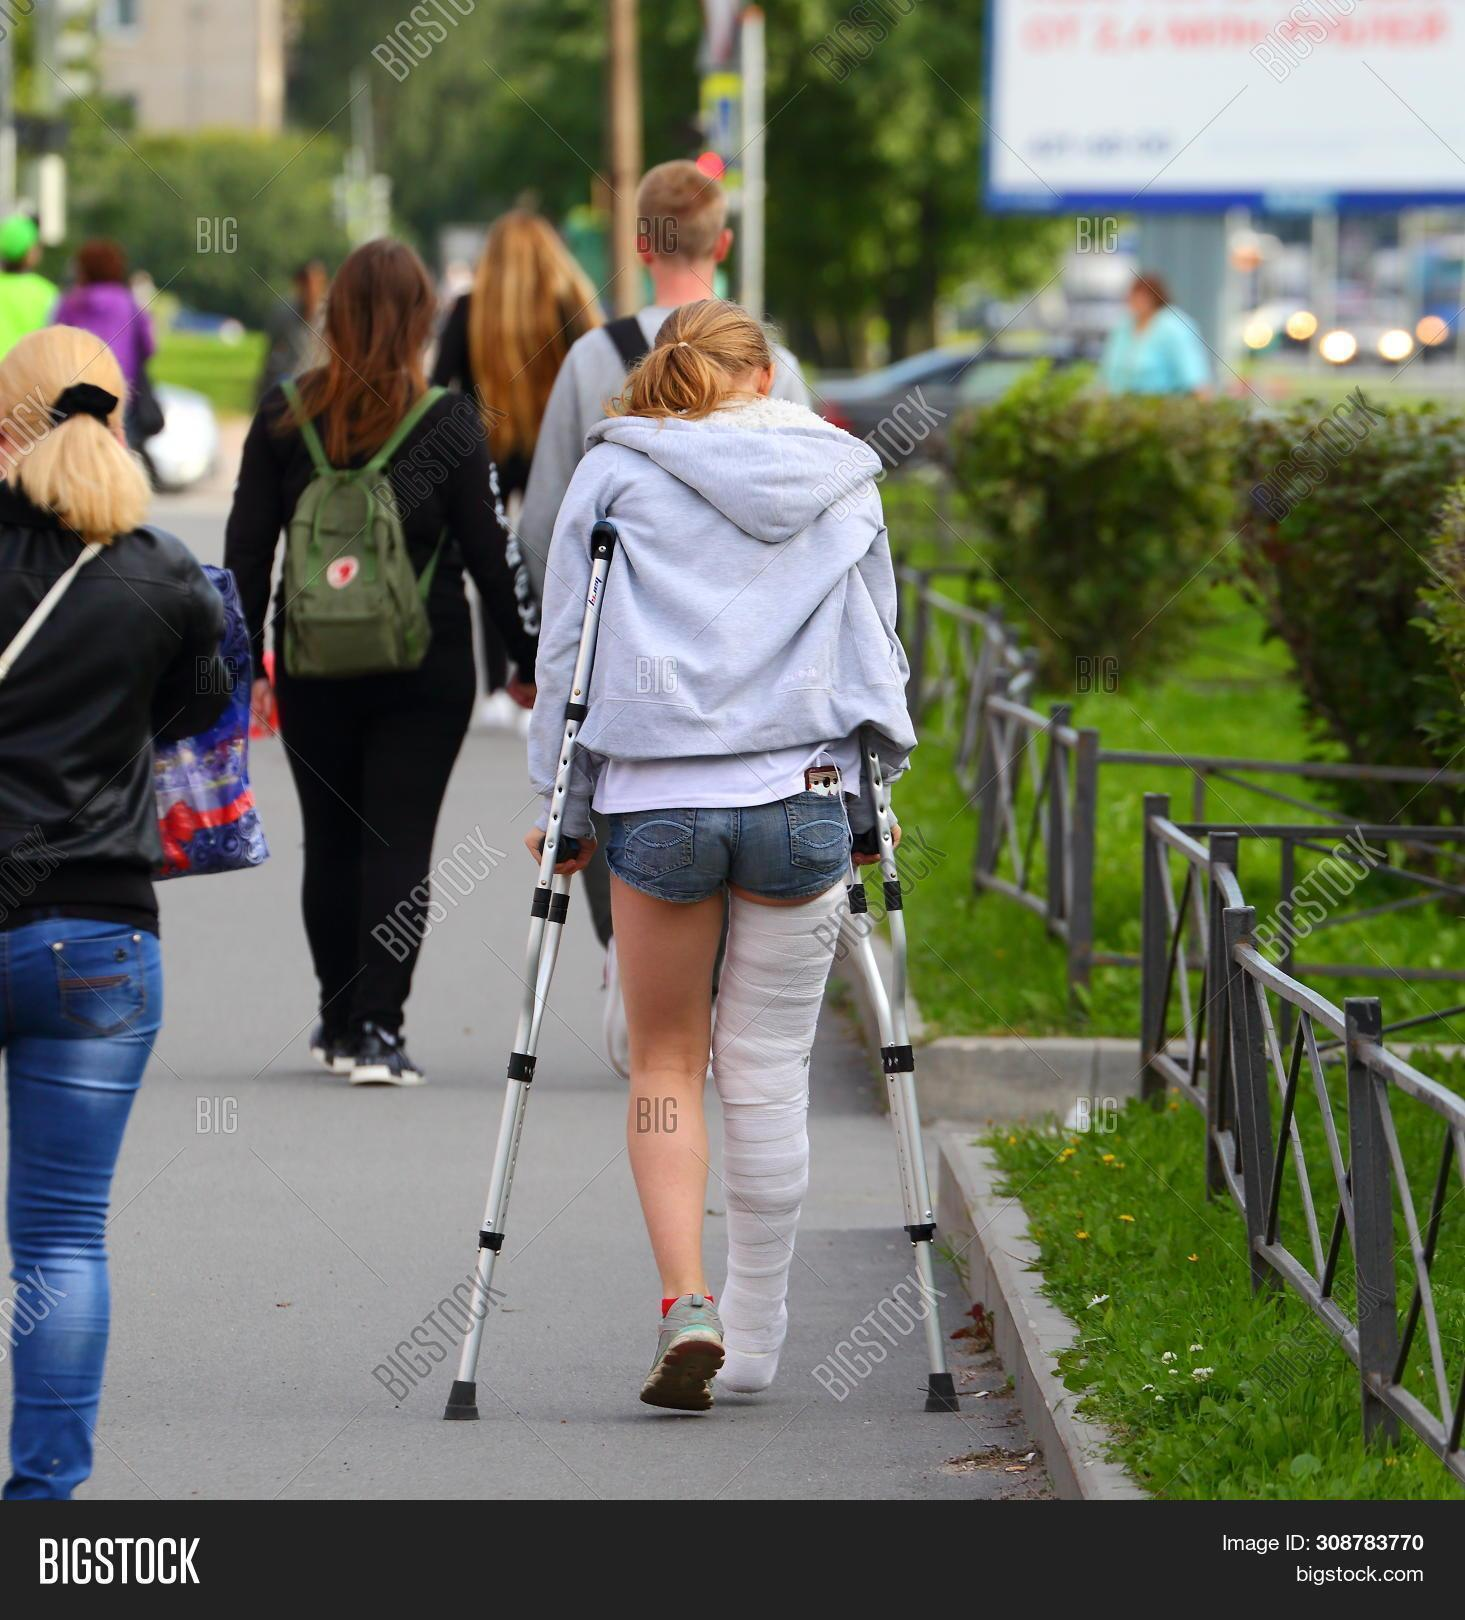crutches: (453, 278, 975, 1425)
